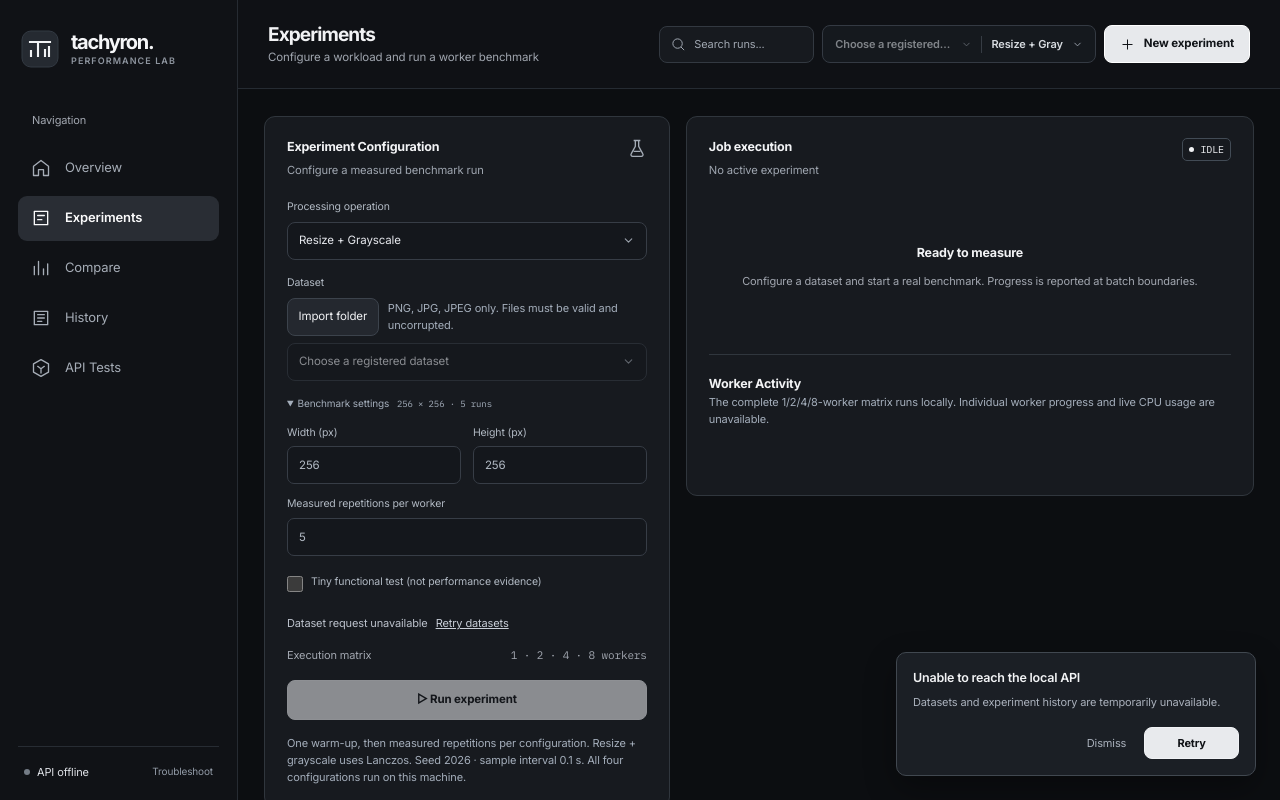
can dismiss a toast during a slow retry without losing focus or clearing the failure
The image size is (1280, 800).
Expected: the text "API offline" is shown, [37,764,89,780]
Click the button "Retry".
click(1192, 743)  # box [1144,727,1239,759]
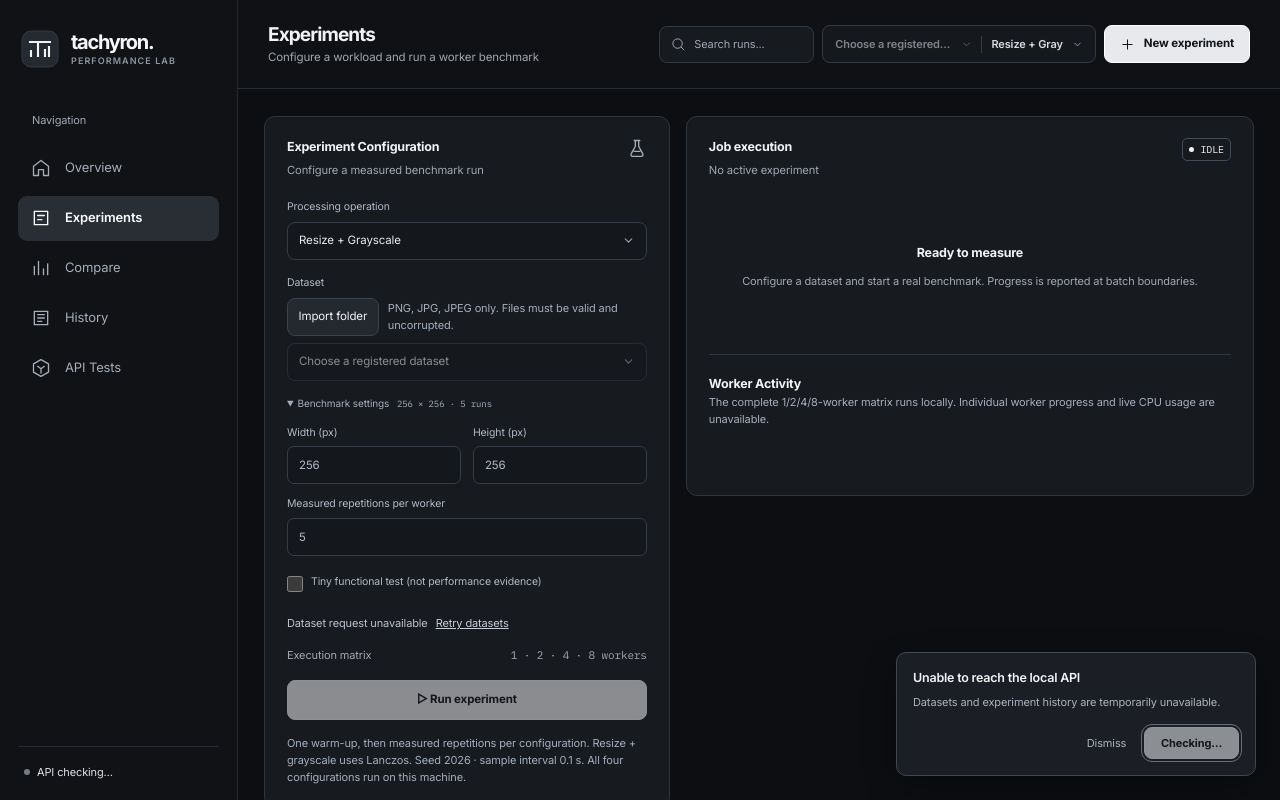
Now the button "Checking…" is disabled, box [1144,727,1239,759]
Click the button "Dismiss".
click(1107, 743)  # box [1087,727,1126,759]
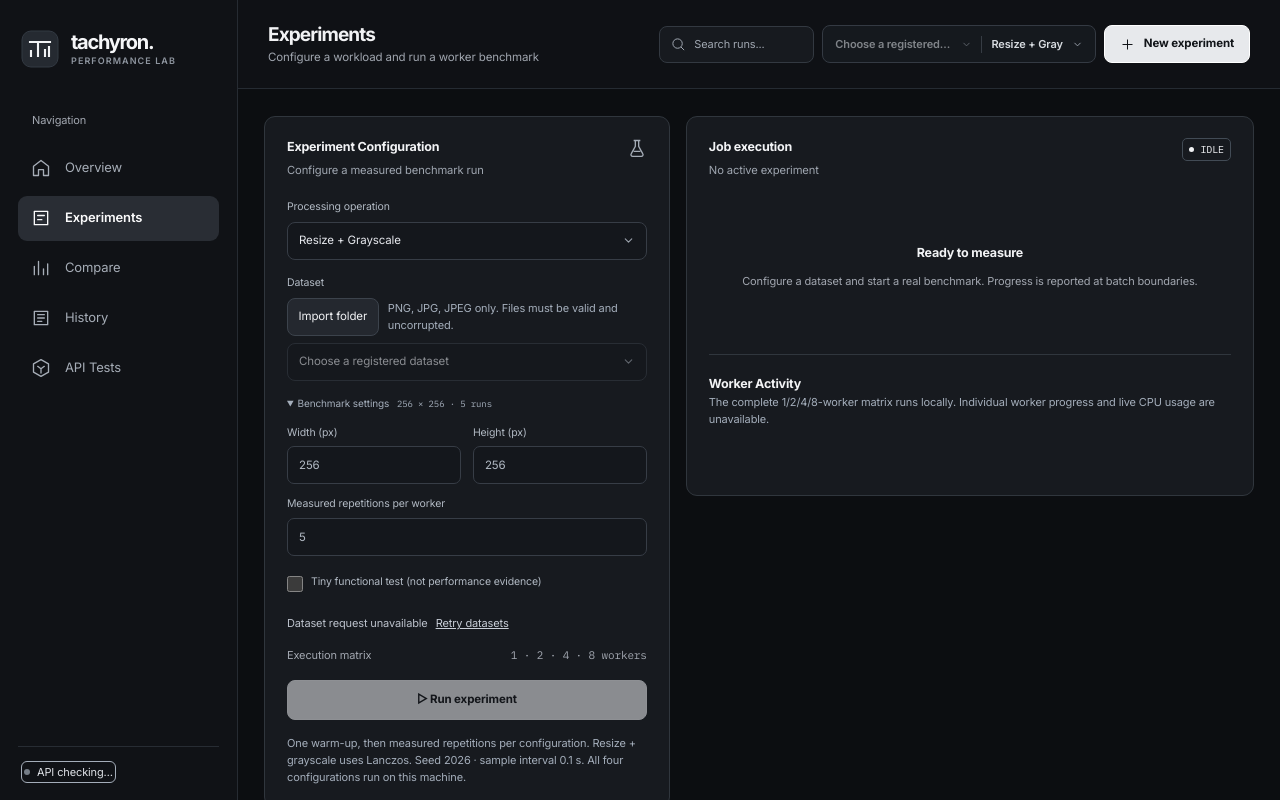
Now the button with aria-label "Recheck API connection" has attribute aria-busy="true", box [24,764,113,780]
Press Enter
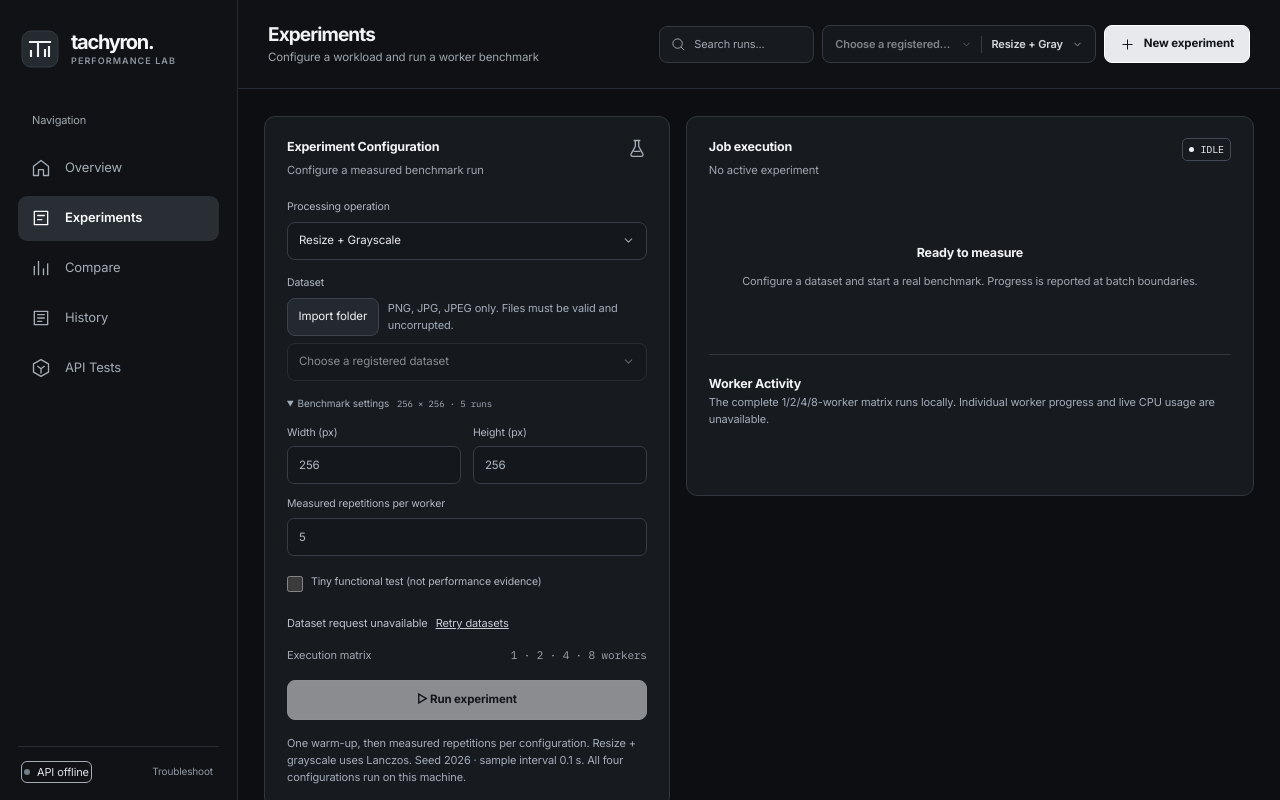
Expected: the heading "Unable to reach the local API" is not shown
Now the text "API offline" is shown, box [37,764,89,780]
